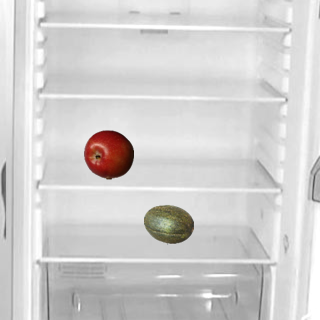Apple Braeburn: (83, 129, 133, 179)
Melon Piel de Sapo: (143, 199, 193, 249)
